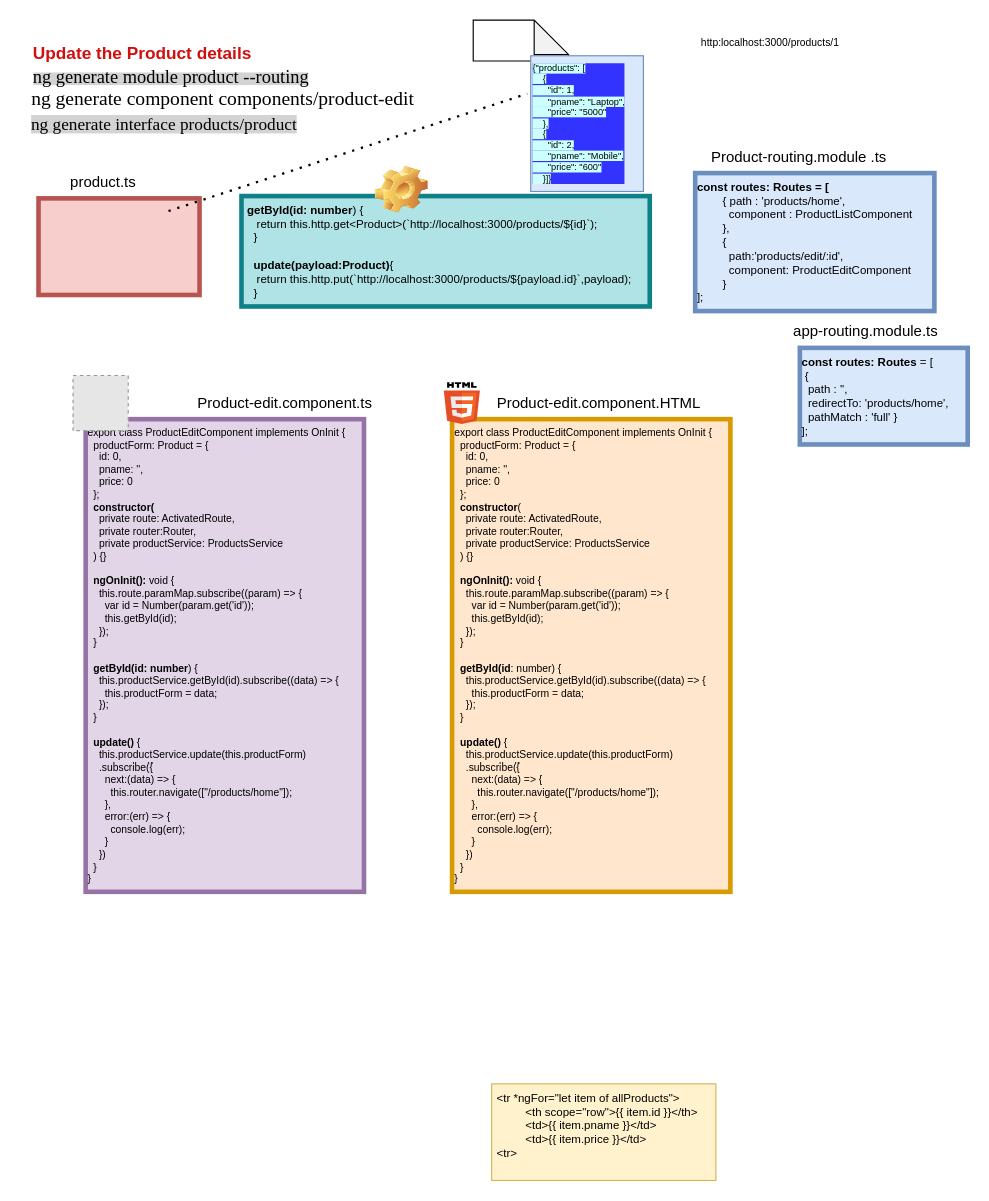
Some shapes in this 989 by 1201 pixel diagram are drawn without their labels. Grey dashed boxes stand in for pictures. The shapes that lost their labels are listed below. From the top down, each one's centre as x and y in pixels, then its label:
At (x=520, y=40): "product.json".
At (x=118, y=246): "export interface Product { id: number, pname: string, price: number }".
